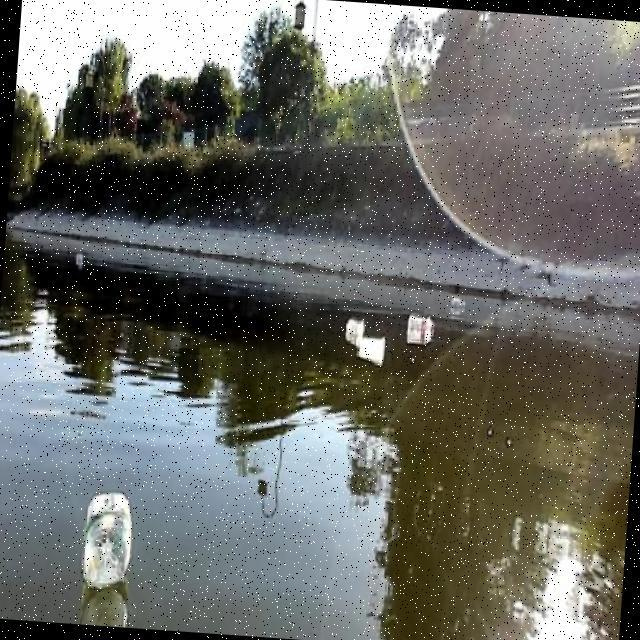Bottle: (76, 488, 140, 595)
Waste: (402, 309, 442, 347), (356, 335, 394, 367), (343, 312, 369, 343)
